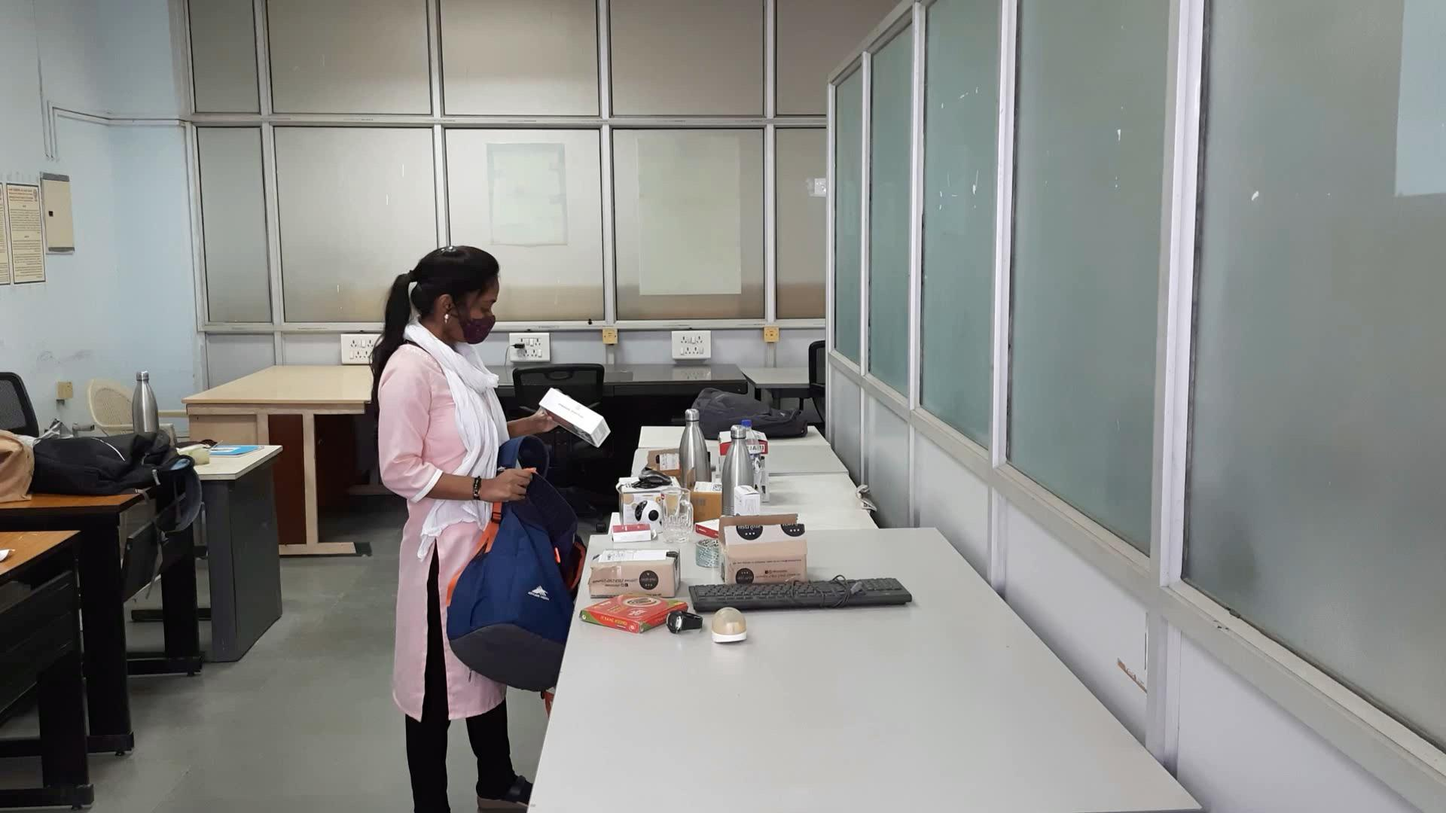shoplifting: (369, 342, 639, 710)
